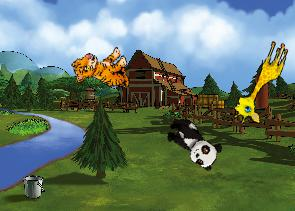giraffe: (229, 34, 291, 129)
panda: (159, 112, 226, 173)
tiger: (69, 41, 135, 101)
